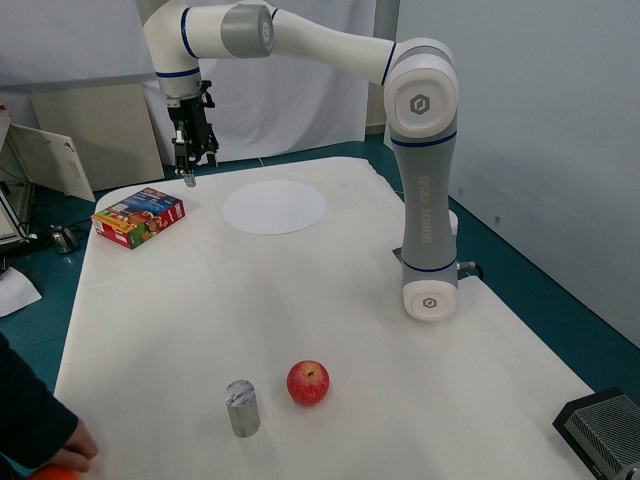apple: (281, 350, 336, 409)
metalROD: (212, 372, 261, 441)
